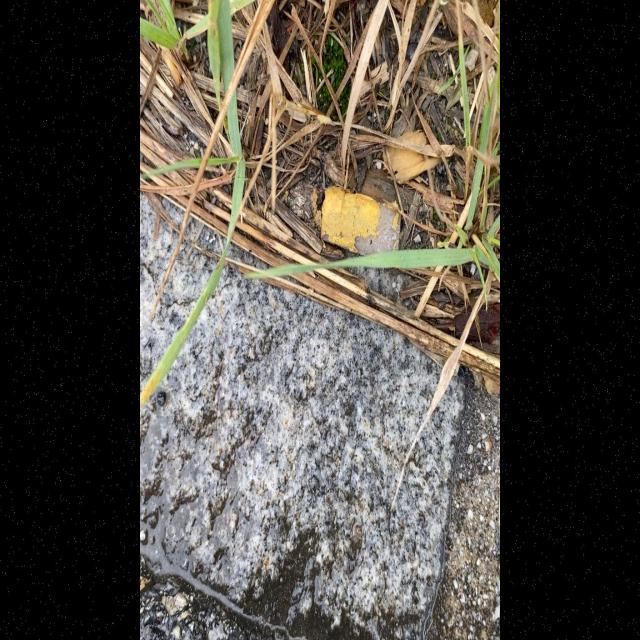other waste: (320, 184, 401, 260)
